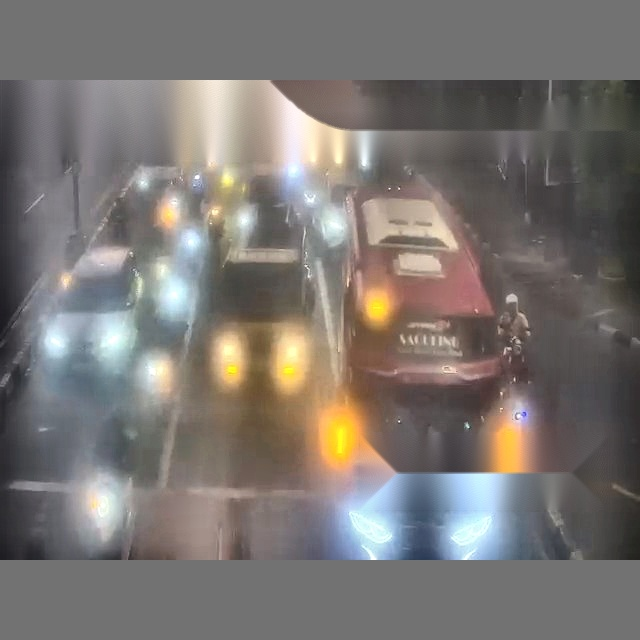Motor: (494, 380, 530, 469), (272, 324, 309, 397), (318, 402, 354, 475), (156, 185, 181, 237)
